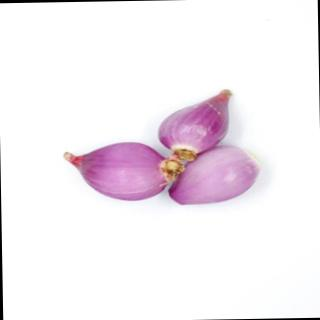Bawang Merah: (60, 140, 175, 204), (167, 143, 264, 207), (155, 86, 235, 163)
